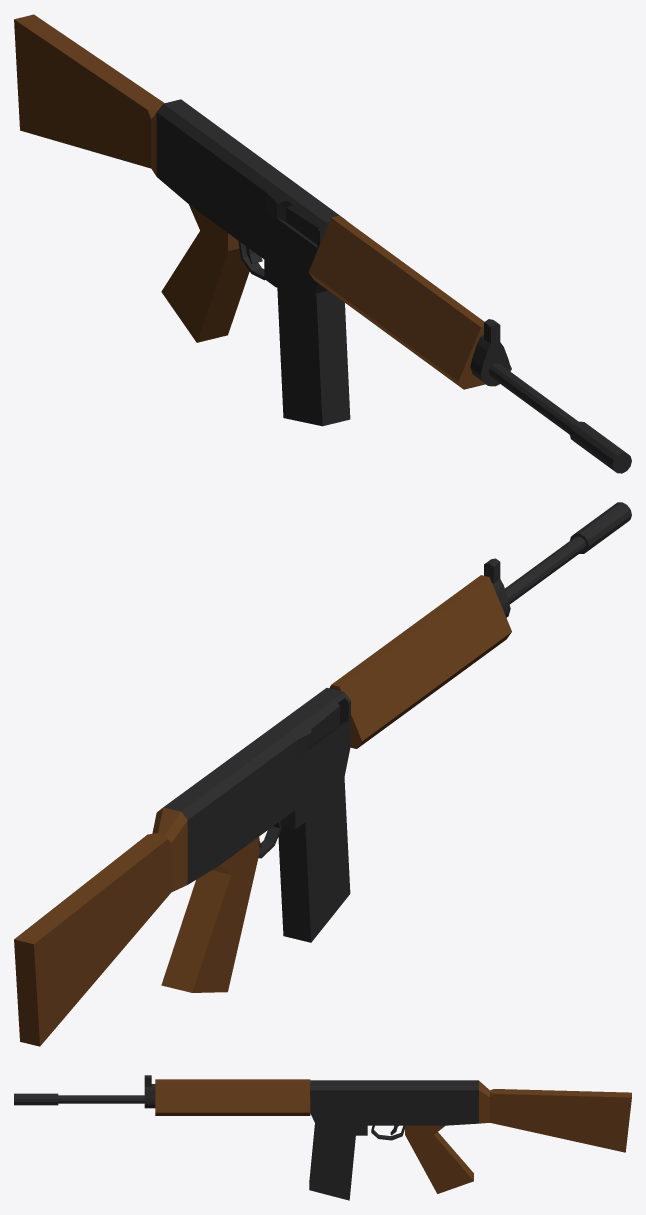
Rendered from RifleModel.FBX.
3 renders of one model, top to bottom at view 1: azimuth 30°, elevation 25°; view 2: azimuth 150°, elevation 25°; view 3: azimuth 270°, elevation 25°, orthographic. The views are drawn at different scales.
Visible parts, largest first — view 1: fal, mag; view 2: fal, mag; view 3: fal, mag.
Part boxes in pixels (x1,y1,x2,y2): fal: [14, 14, 631, 473]; mag: [277, 287, 350, 426]; fal: [14, 502, 631, 1046]; mag: [278, 776, 350, 942]; fal: [14, 1075, 631, 1193]; mag: [309, 1123, 355, 1200].
Size of the model in its own units: 31.13 by 131 by 600.
